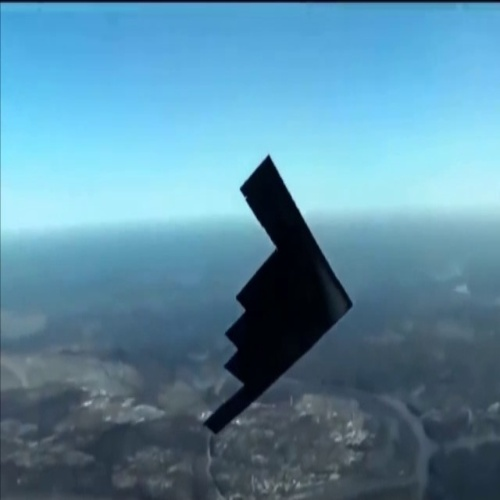uav: (204, 154, 356, 434)
